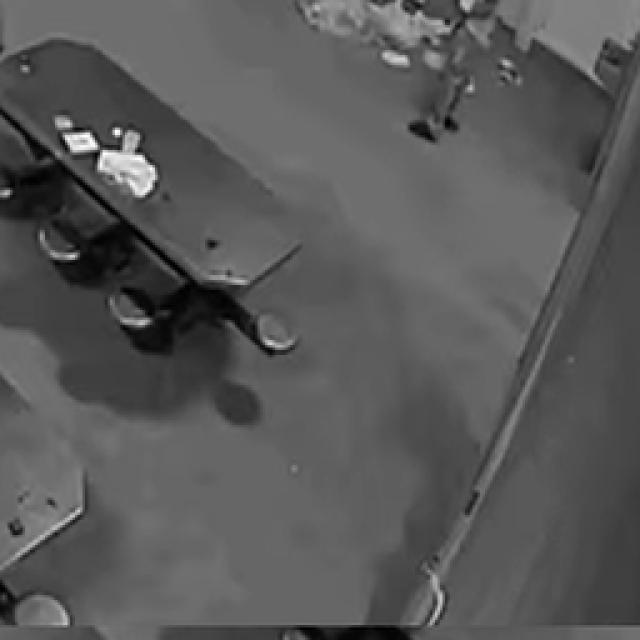Invader: (396, 0, 496, 146)
